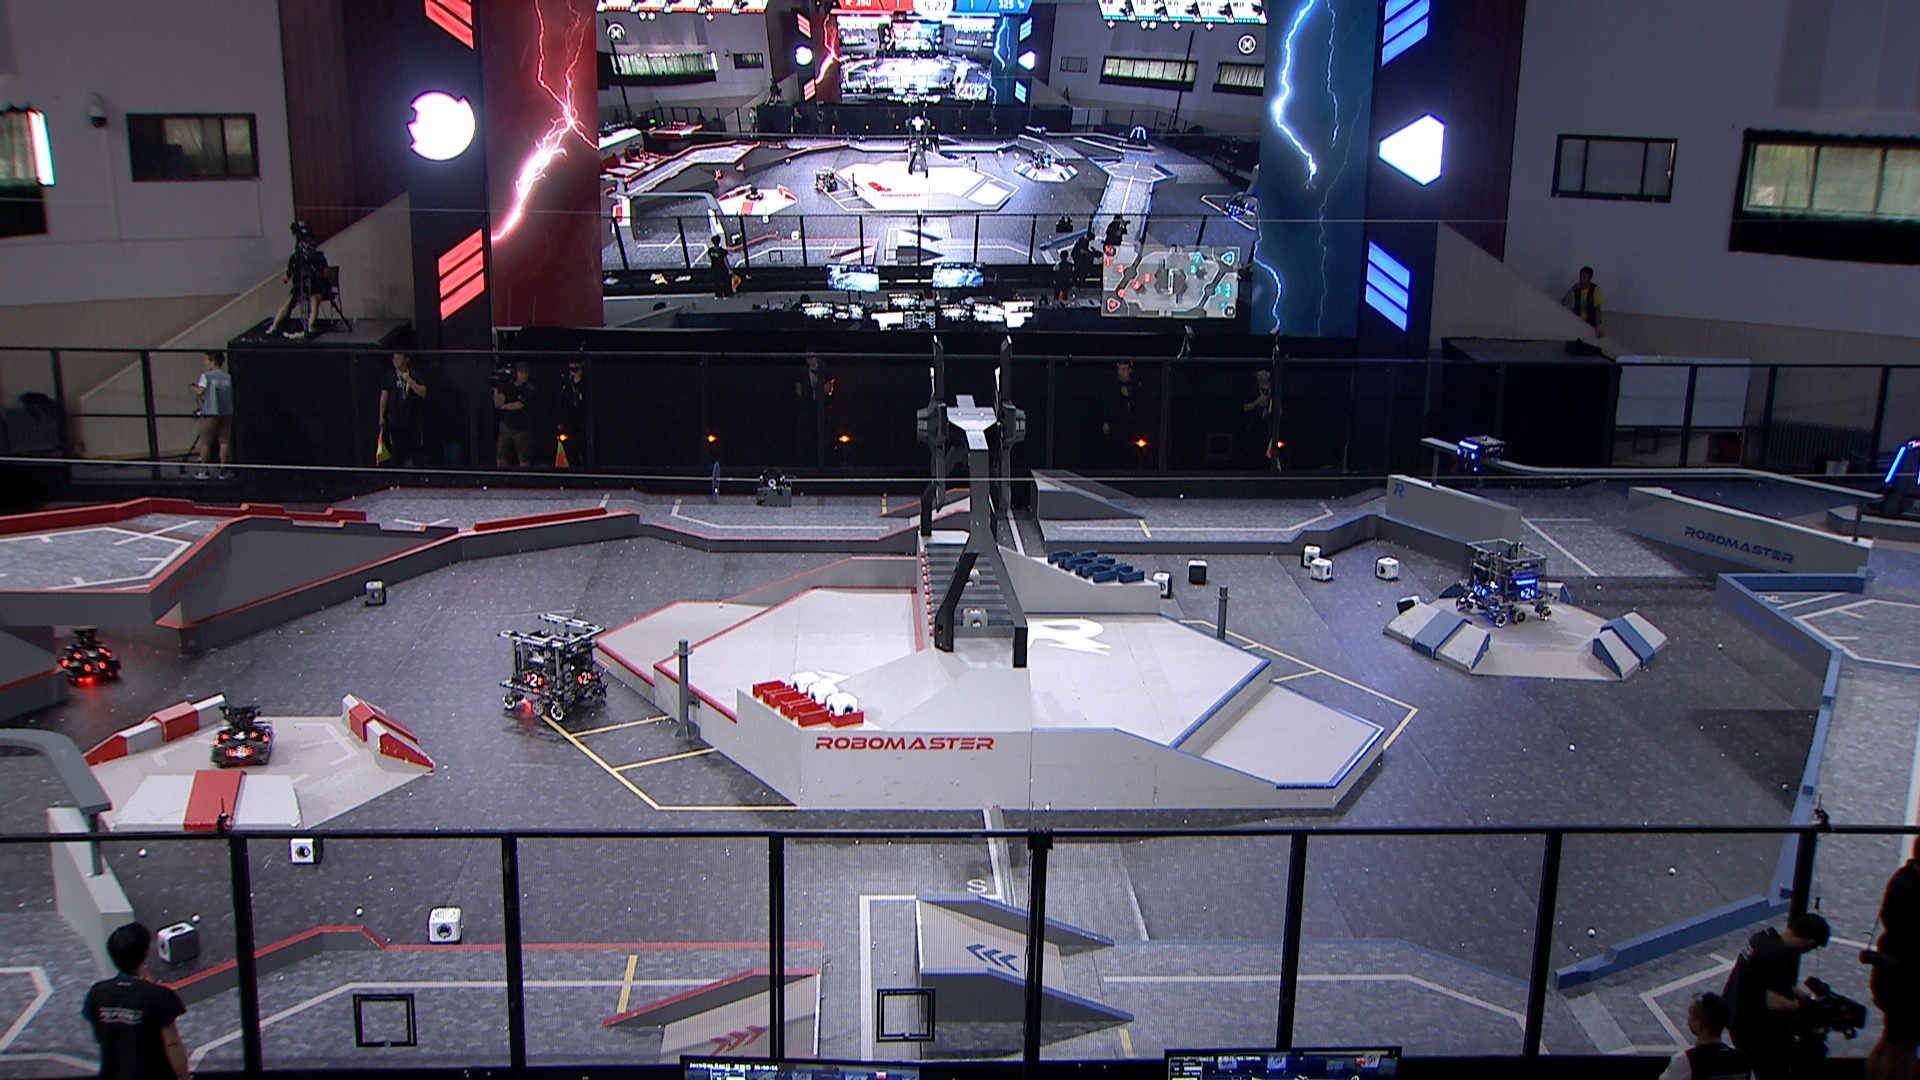armor: (1884, 443, 1905, 484), (1451, 444, 1476, 463), (225, 742, 251, 760), (80, 659, 107, 675), (524, 671, 545, 688), (225, 731, 257, 741), (1472, 582, 1489, 600), (258, 725, 276, 742), (74, 646, 102, 657), (55, 655, 76, 669), (576, 669, 593, 684), (1519, 588, 1538, 597)
base: (1859, 429, 1920, 522)
car: (498, 613, 611, 725), (1456, 538, 1552, 632), (45, 621, 123, 688), (211, 704, 280, 764)
ignore: (808, 167, 841, 191), (1221, 193, 1250, 216), (1030, 145, 1054, 169), (1125, 124, 1150, 146), (626, 145, 654, 164), (742, 181, 765, 200)
watcher: (1447, 429, 1506, 488)
